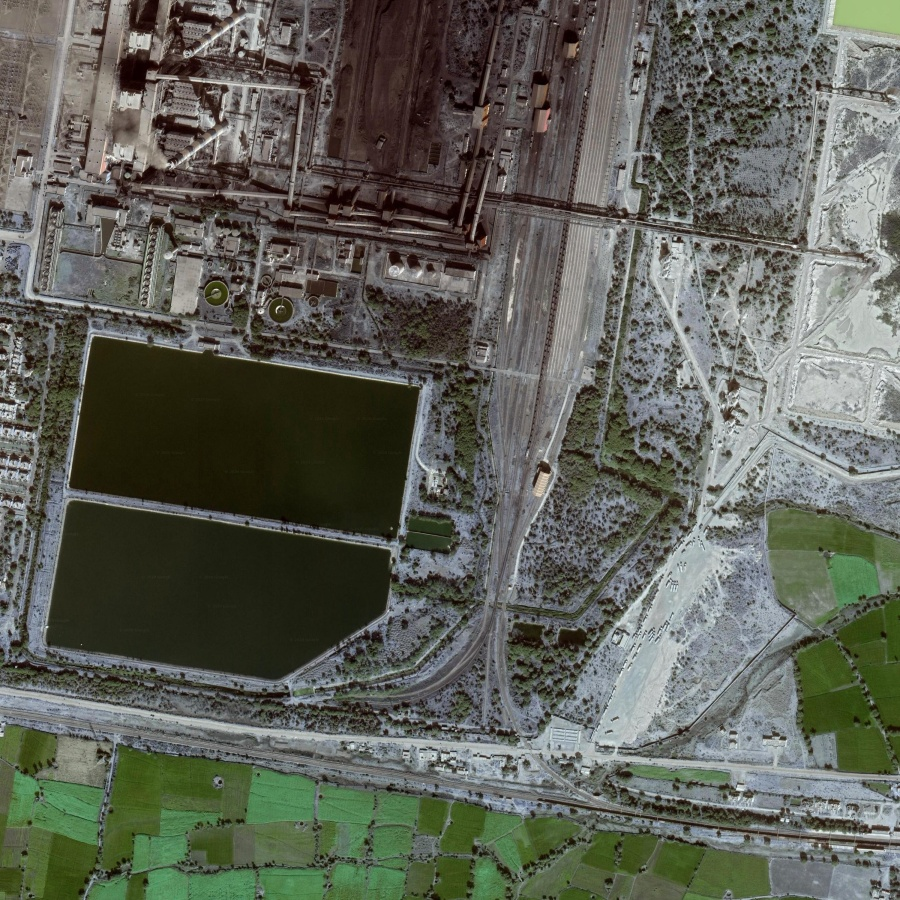PowerPlant: (17, 304, 437, 710)
